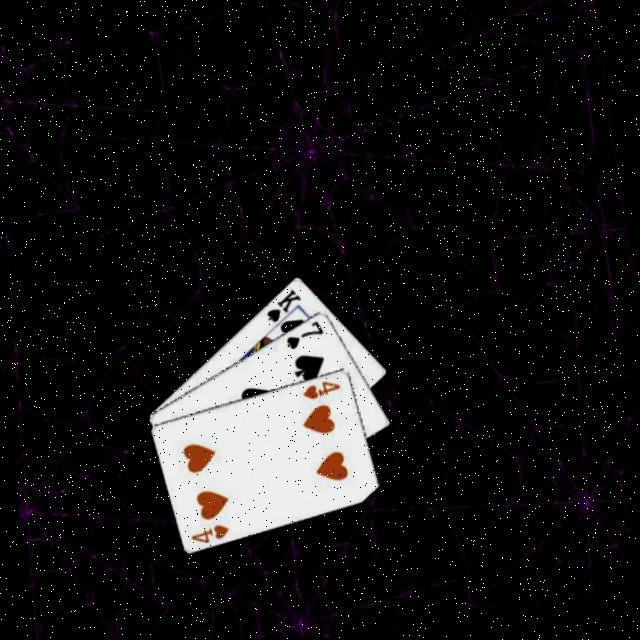4H: (187, 519, 234, 548), (299, 375, 344, 402)
7S: (281, 316, 329, 353)
KS: (260, 284, 307, 326)
